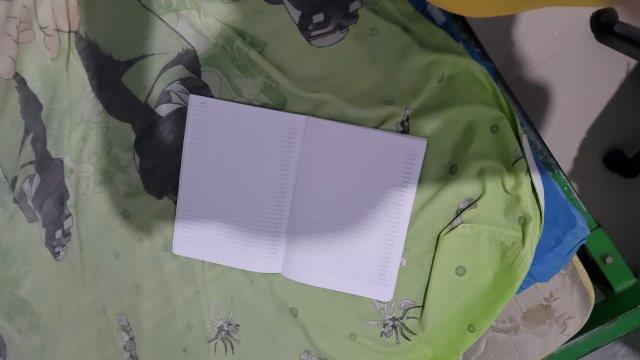kertas: (169, 93, 427, 304)
